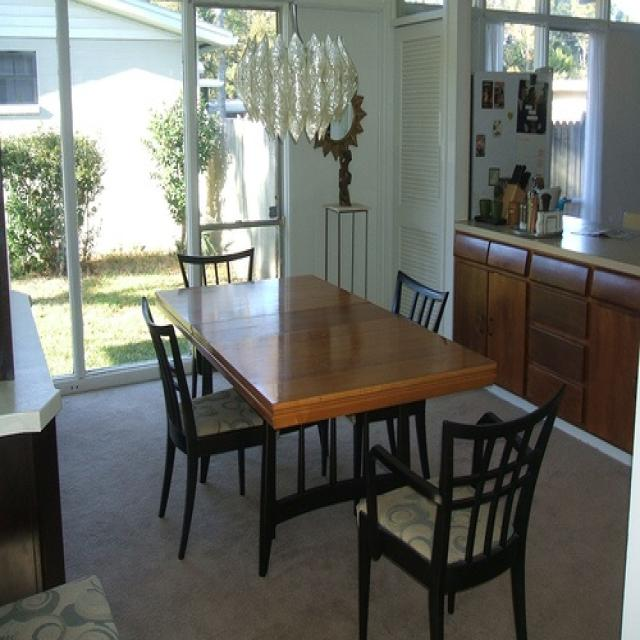chair: (356, 385, 571, 639), (139, 297, 279, 563), (330, 269, 452, 482), (173, 252, 259, 397)
diningtable: (154, 271, 502, 580)
